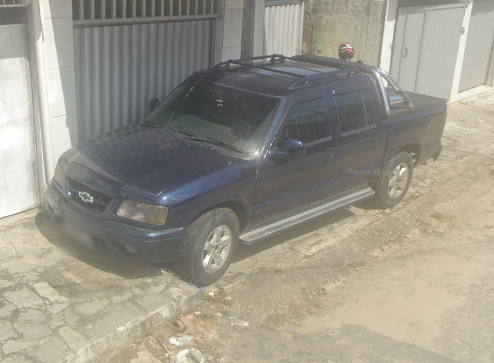car: (48, 53, 448, 279)
